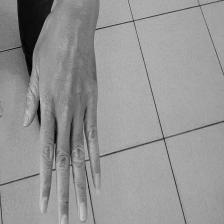DA: (44, 24, 92, 118)
